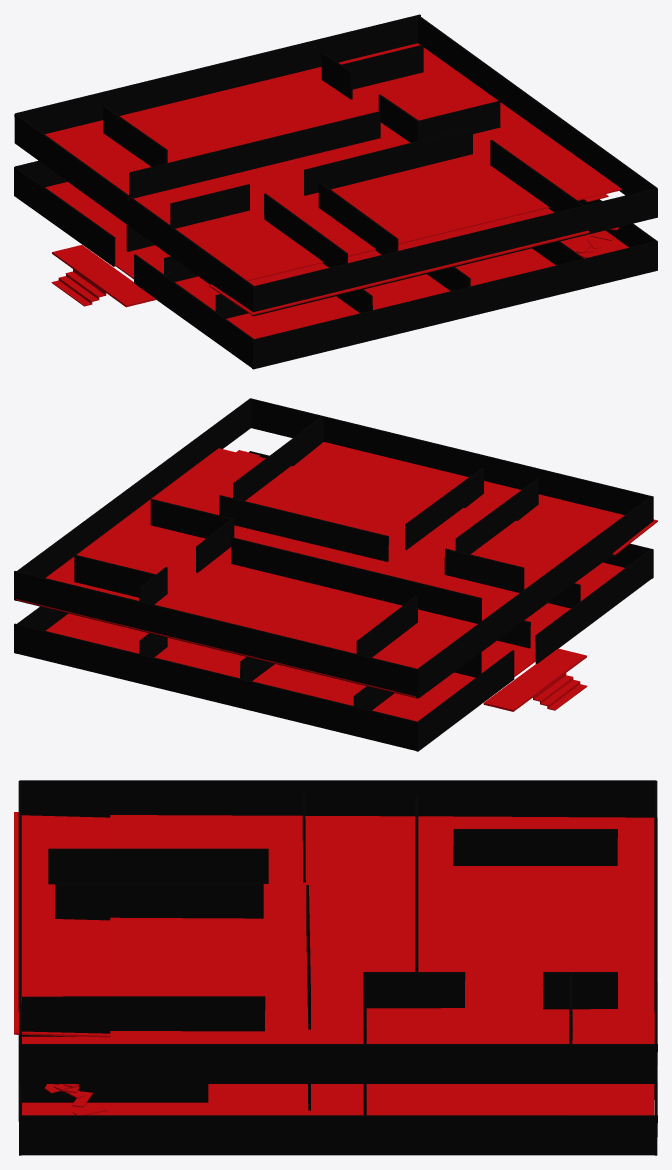
The model's file is 2 STOREY LAYOUT.fbx.
3 views of the same model, one above another, from view 1: azimuth 30°, elevation 25°; view 2: azimuth 150°, elevation 25°; view 3: azimuth 270°, elevation 25° (orthographic). The views are drawn at different scales.
Visible parts, largest first — view 1: Ground_3.017, Wall__3__1.006, Wall__3__1.068, Wall__3__1.066, Ground_3.008, Wall__3__1.070, Wall__3__1.055, Wall__3__1.067, Wall__3__1.054, Wall__3__1.004, Wall__3__1.005, Ground_3.009 (+16 smaller); view 2: Ground_3.017, Wall__3__1.008, Wall__3__1.066, Ground_3.008, Wall__3__1.068, Ground_3.009, Wall__3__1.070, Wall__3__1.055, Wall__3__1.067, Wall__3__1.054, Wall__3__1.004, Wall__3__1.005 (+16 smaller); view 3: Ground_3.017, Wall__3__1.007, Wall__3__1.067, Wall__3__1.070, Ground_3.008, Ground_3.009, Wall__3__1.052, Wall__3__1.051, Wall__3__1.053, Wall__3__1.061, Wall__3__1.057, Wall__3__1.022 (+5 smaller).
Part boxes in pixels (x1=…): Ground_3.017: x1=45, y1=43, x2=621, y2=281; Wall__3__1.006: x1=252, y1=241, x2=657, y2=369; Wall__3__1.068: x1=252, y1=188, x2=657, y2=316; Wall__3__1.066: x1=15, y1=14, x2=420, y2=134; Ground_3.008: x1=45, y1=182, x2=628, y2=338; Wall__3__1.070: x1=14, y1=114, x2=254, y2=310; Wall__3__1.055: x1=129, y1=111, x2=380, y2=198; Wall__3__1.067: x1=418, y1=16, x2=657, y2=195; Wall__3__1.054: x1=304, y1=127, x2=472, y2=195; Wall__3__1.004: x1=134, y1=254, x2=254, y2=367; Wall__3__1.005: x1=14, y1=167, x2=115, y2=266; Ground_3.009: x1=209, y1=208, x2=589, y2=315; Ground_3.017: x1=16, y1=448, x2=591, y2=697; Wall__3__1.008: x1=14, y1=623, x2=417, y2=750; Wall__3__1.066: x1=14, y1=571, x2=417, y2=698; Ground_3.008: x1=46, y1=562, x2=624, y2=721; Wall__3__1.068: x1=251, y1=398, x2=653, y2=521; Ground_3.009: x1=293, y1=442, x2=657, y2=555; Wall__3__1.070: x1=417, y1=496, x2=652, y2=698; Wall__3__1.055: x1=231, y1=537, x2=481, y2=623; Wall__3__1.067: x1=15, y1=398, x2=251, y2=600; Wall__3__1.054: x1=219, y1=495, x2=388, y2=561; Wall__3__1.004: x1=535, y1=549, x2=652, y2=663; Wall__3__1.005: x1=416, y1=650, x2=514, y2=751; Ground_3.017: x1=110, y1=815, x2=657, y2=1082; Wall__3__1.007: x1=19, y1=1115, x2=657, y2=1155; Wall__3__1.067: x1=19, y1=1044, x2=657, y2=1083; Wall__3__1.070: x1=20, y1=780, x2=655, y2=817; Ground_3.008: x1=22, y1=1036, x2=654, y2=1115; Ground_3.009: x1=14, y1=812, x2=110, y2=1037; Wall__3__1.052: x1=22, y1=996, x2=265, y2=1036; Wall__3__1.051: x1=48, y1=848, x2=268, y2=884; Wall__3__1.053: x1=55, y1=883, x2=263, y2=920; Wall__3__1.061: x1=453, y1=829, x2=617, y2=865; Wall__3__1.057: x1=363, y1=972, x2=465, y2=1008; Wall__3__1.022: x1=22, y1=1084, x2=208, y2=1102.
Size of the model in its own units: 249579 by 48796 by 227426.
